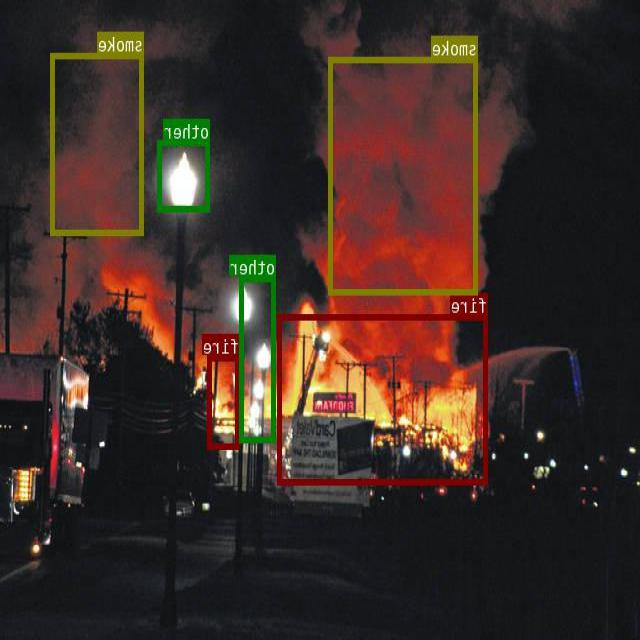fire: (279, 312, 488, 483), (208, 353, 240, 448)
other: (240, 275, 277, 441), (158, 139, 210, 211)
smoke: (330, 57, 479, 293), (51, 52, 144, 234)
